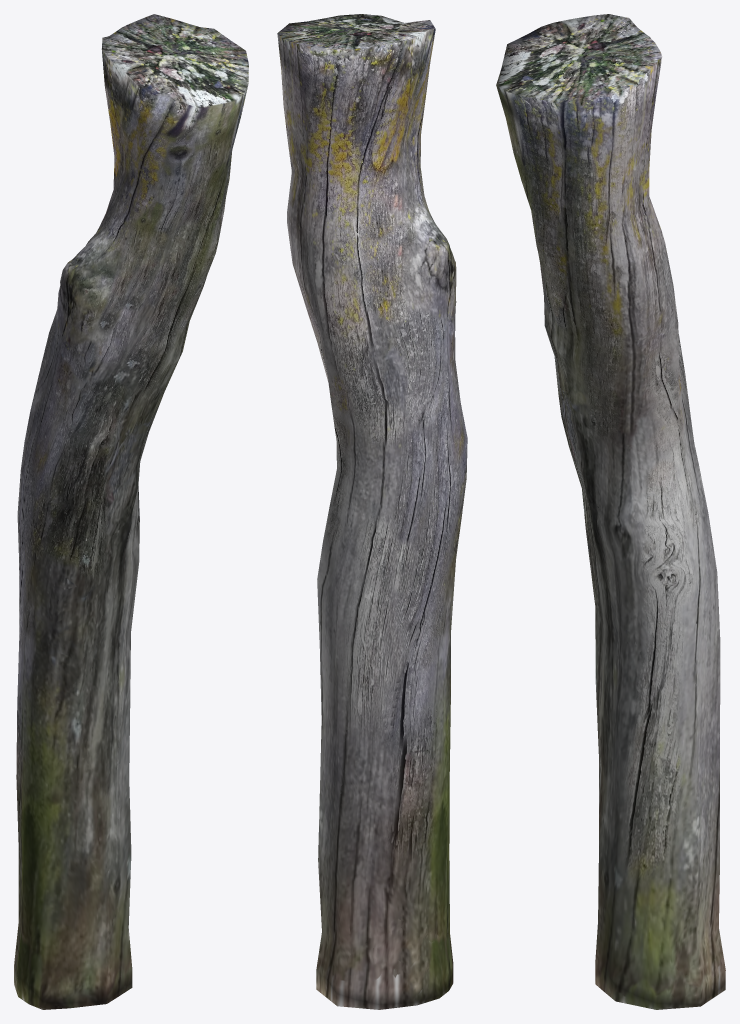
Rendered from tetherpost.glb.
3 renders of one model, left to right at view 1: azimuth 30°, elevation 25°; view 2: azimuth 150°, elevation 25°; view 3: azimuth 270°, elevation 25°, orthographic. The views are drawn at different scales.
Visible parts, largest first — view 1: Object_2; view 2: Object_2; view 3: Object_2.
Part boxes in pixels (<box>): Object_2: <box>14,14,248,1009</box>; Object_2: <box>277,14,467,1009</box>; Object_2: <box>496,14,725,1009</box>.
Size of the model in its own units: 1.05 by 4.94 by 1.06.
1 material, 1 textured.
